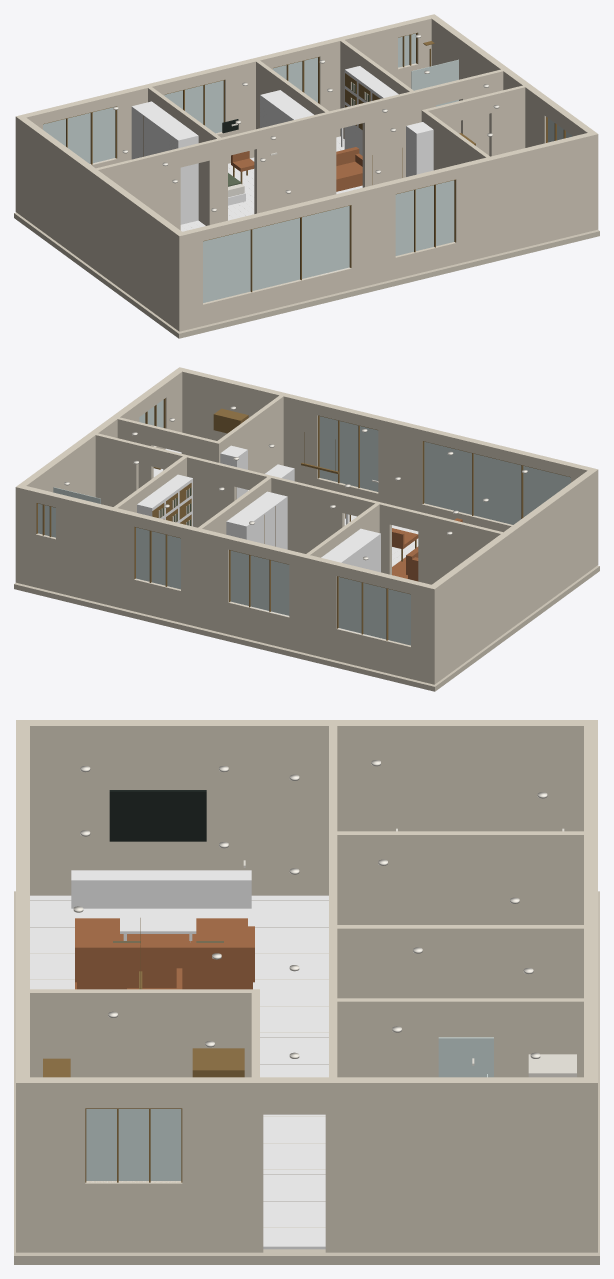
Rendered from qimu-home.glb.
The picture shows the model from 3 angles, top to bottom: view 1: azimuth 30°, elevation 25°; view 2: azimuth 150°, elevation 25°; view 3: azimuth 270°, elevation 25°; orthographic projection. The views are drawn at different scales.
Visible parts, largest first — view 1: W03, W01.006, WIN01 glazing, W05.004, foundation, W05.006, W01.003, J01, W05, WIN02 glazing, W01.001, W02.009 (+37 smaller); view 2: W03, W02.009, WIN01 glazing, W01.006, W02.006, W02.003, foundation, W01.003, WIN03 glazing, W05.004, WIN02 glazing, W05 (+40 smaller); view 3: W03, W04.005, W06, R07 floor, W07, W09, W08, W04.003, W04, foundation, W04.001, J05 (+19 smaller).
Part boxes in pixels (x1=…): W03: x1=19, y1=117, x2=181, y2=328; W01.006: x1=453, y1=131, x2=598, y2=263; WIN01 glazing: x1=203, y1=206, x2=349, y2=302; W05.004: x1=254, y1=110, x2=336, y2=213; foundation: x1=14, y1=212, x2=599, y2=338; W05.006: x1=362, y1=86, x2=435, y2=187; W01.003: x1=348, y1=180, x2=395, y2=289; J01: x1=131, y1=101, x2=198, y2=224; W05: x1=96, y1=148, x2=180, y2=230; WIN02 glazing: x1=395, y1=180, x2=454, y2=255; W01.001: x1=203, y1=268, x2=351, y2=325; W02.009: x1=316, y1=24, x2=397, y2=137; W03: x1=432, y1=470, x2=594, y2=681; W02.009: x1=56, y1=494, x2=137, y2=611; WIN01 glazing: x1=424, y1=441, x2=570, y2=524; W01.006: x1=176, y1=367, x2=320, y2=486; W02.006: x1=181, y1=524, x2=231, y2=634; W02.003: x1=289, y1=551, x2=339, y2=660; foundation: x1=14, y1=565, x2=599, y2=691; W01.003: x1=378, y1=416, x2=425, y2=512; WIN03 glazing: x1=338, y1=577, x2=410, y2=645; W05.004: x1=263, y1=474, x2=344, y2=553; WIN02 glazing: x1=319, y1=416, x2=378, y2=491; W05: x1=418, y1=512, x2=502, y2=584; W03: x1=30, y1=720, x2=583, y2=895; W04.005: x1=325, y1=1077, x2=583, y2=1252; W06: x1=337, y1=831, x2=583, y2=924; R07 floor: x1=260, y1=895, x2=328, y2=1249; W07: x1=337, y1=925, x2=583, y2=998; W09: x1=30, y1=989, x2=259, y2=1077; W08: x1=337, y1=998, x2=583, y2=1077; W04.003: x1=182, y1=1077, x2=263, y2=1252; W04: x1=30, y1=1077, x2=85, y2=1252; foundation: x1=14, y1=891, x2=599, y2=1264; W04.001: x1=85, y1=1181, x2=182, y2=1252; J05: x1=71, y1=870, x2=251, y2=908.
Bounding box in the file's own units: 12.46 × 2.88 × 8.46.
